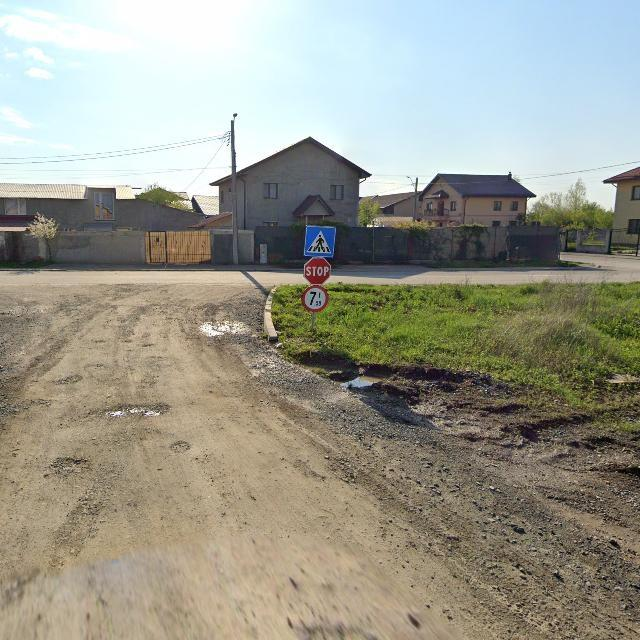info_crosswalk: (303, 225, 336, 258)
prio_stop: (304, 258, 332, 285)
